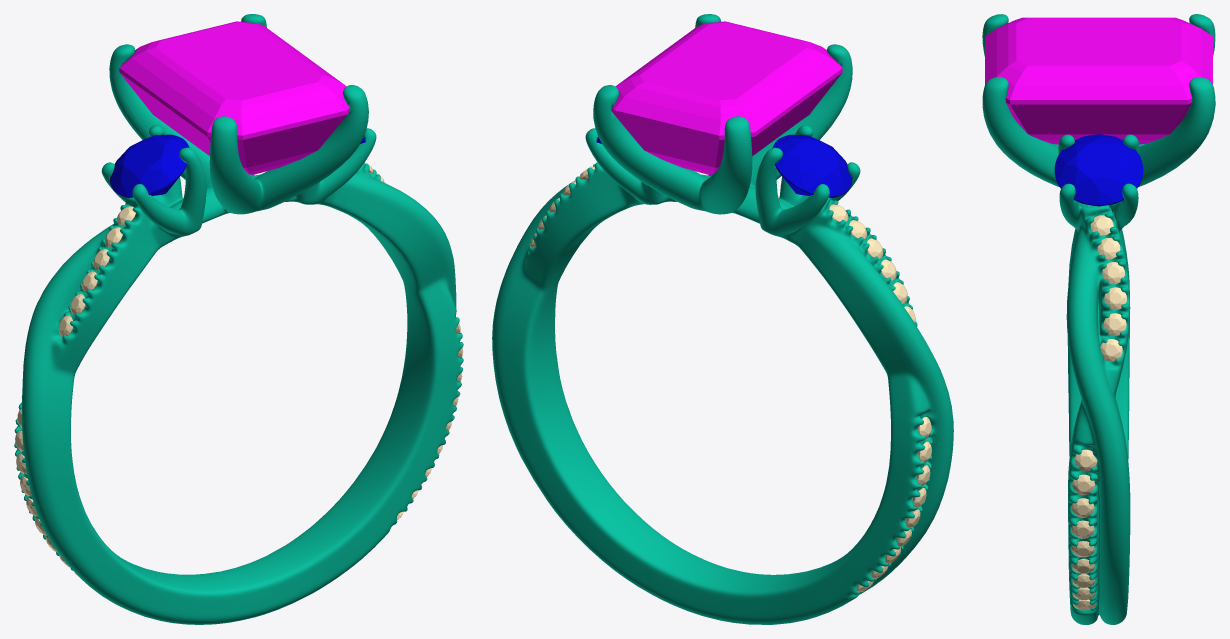
The model's file is BE1M30D_EM_200ct_RENDER.glb.
The picture shows the model from 3 angles, left to right: view 1: azimuth 30°, elevation 25°; view 2: azimuth 150°, elevation 25°; view 3: azimuth 270°, elevation 25°; orthographic projection.
Visible parts, largest first — view 1: Metal 01, CS_Diamond_Emerald, Diamond_Round_side.001; view 2: Metal 01, CS_Diamond_Emerald, Diamond_Round_side.001; view 3: Metal 01, CS_Diamond_Emerald, Diamond_Round_side, Diamond_Round_Gem_SH.019, Diamond_Round_Gem_SH.017, Diamond_Round_Gem_SH.018, Diamond_Round_Gem_SH.020, Diamond_Round_Gem_SH.021, Diamond_Round_Gem_SH.016, Diamond_Round_Gem_SH.022, Diamond_Round_Gem_SH.015, Diamond_Round_Gem_SH.023.
Boxes of the visible parts, x1,y1,x2,y2 form: Metal 01: [14, 14, 463, 624]; CS_Diamond_Emerald: [119, 21, 349, 174]; Diamond_Round_side.001: [110, 134, 189, 197]; Metal 01: [492, 14, 953, 624]; CS_Diamond_Emerald: [612, 21, 842, 174]; Diamond_Round_side.001: [772, 134, 852, 197]; Metal 01: [982, 14, 1215, 624]; CS_Diamond_Emerald: [985, 17, 1212, 144]; Diamond_Round_side: [1054, 134, 1143, 206]; Diamond_Round_Gem_SH.019: [1103, 313, 1126, 335]; Diamond_Round_Gem_SH.017: [1102, 262, 1124, 284]; Diamond_Round_Gem_SH.018: [1104, 287, 1126, 309]; Diamond_Round_Gem_SH.020: [1100, 339, 1122, 361]; Diamond_Round_Gem_SH.021: [1074, 449, 1097, 471]; Diamond_Round_Gem_SH.016: [1097, 238, 1120, 259]; Diamond_Round_Gem_SH.022: [1072, 474, 1094, 495]; Diamond_Round_Gem_SH.015: [1090, 215, 1113, 235]; Diamond_Round_Gem_SH.023: [1071, 498, 1094, 517].
Bounding box in the file's own units: 20.47 × 24.34 × 9.2.
